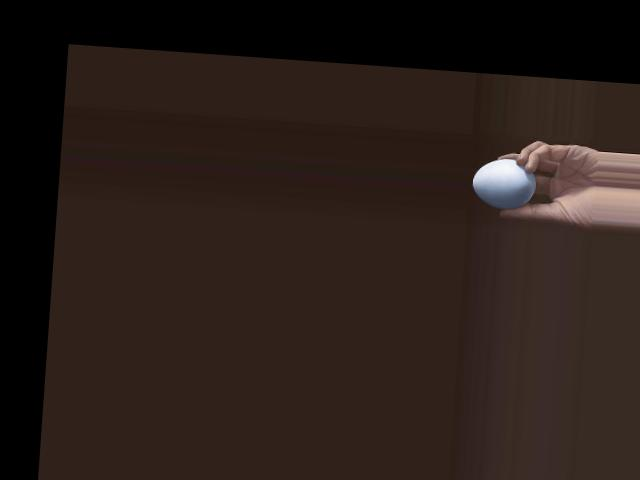egg: (470, 155, 536, 209)
